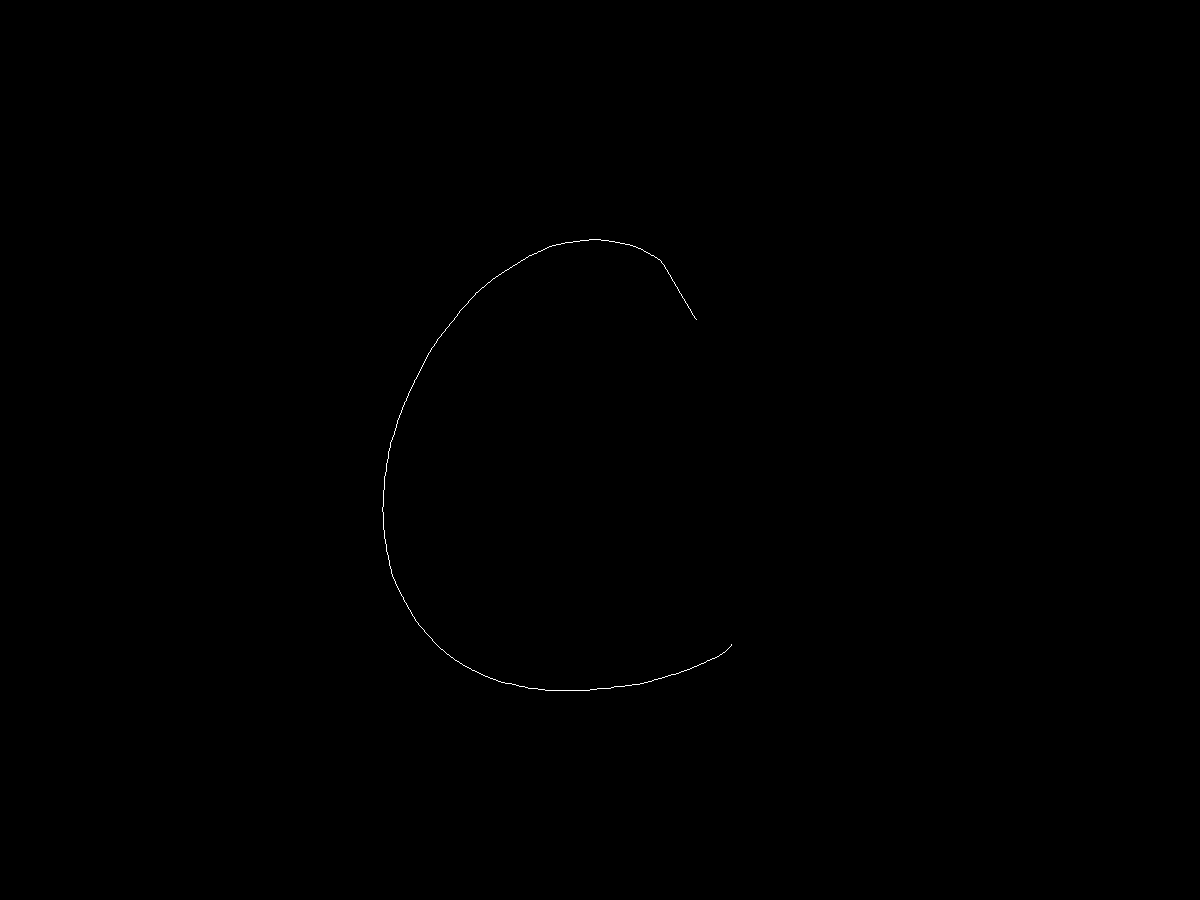dian1: (688, 311, 704, 328)
dian2: (726, 641, 742, 657)
